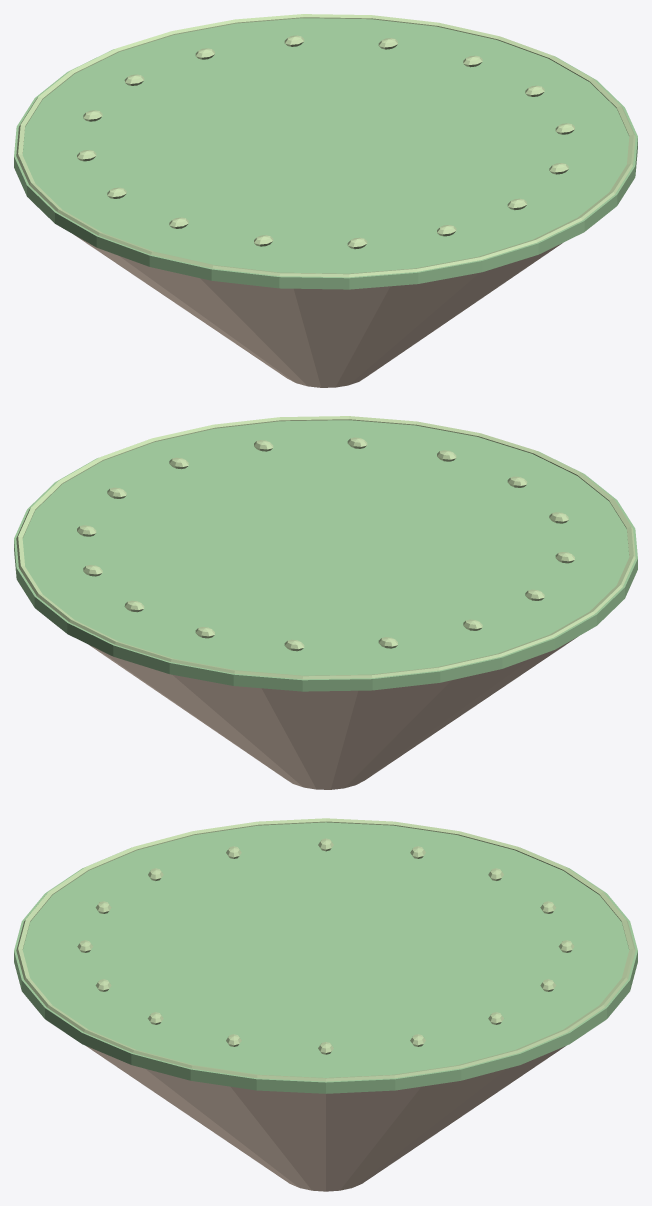
File: isla_principal.glb
3 views of the same model, one above another, from view 1: azimuth 30°, elevation 25°; view 2: azimuth 150°, elevation 25°; view 3: azimuth 270°, elevation 25° (orthographic).
Parts seen in each view (by area): view 1: isla_principal; view 2: isla_principal; view 3: isla_principal.
Boxes of the visible parts, bbox=[...] form: isla_principal: bbox=[14, 14, 637, 387]; isla_principal: bbox=[14, 416, 637, 789]; isla_principal: bbox=[14, 818, 637, 1191].
Size of the model in its own units: 14 by 5.71 by 14.
